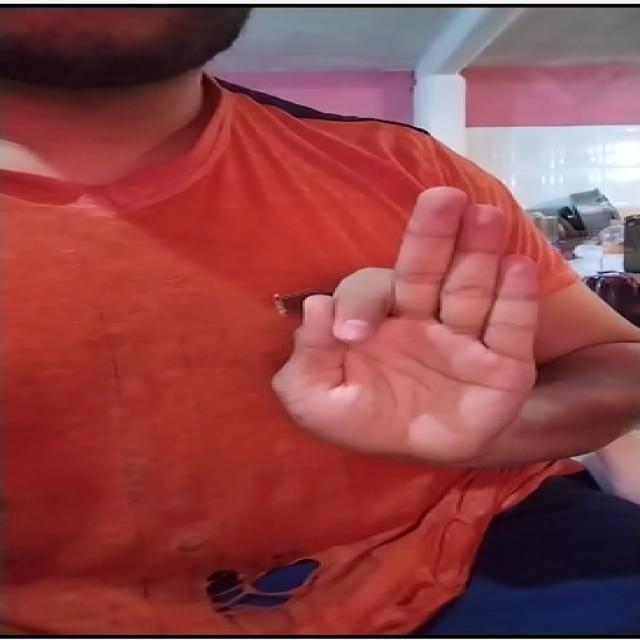F: (262, 180, 566, 484)
